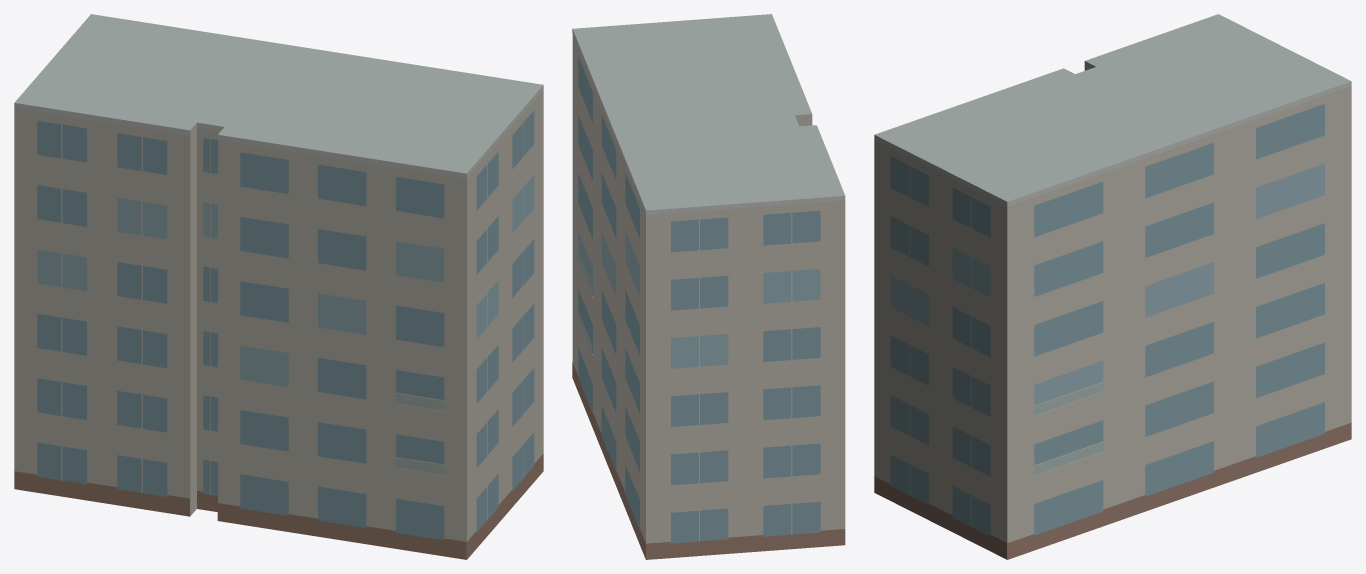
The model's file is survey-upis-32929403.glb.
3 renders of one model, left to right at view 1: azimuth 30°, elevation 25°; view 2: azimuth 150°, elevation 25°; view 3: azimuth 270°, elevation 25°, orthographic. The views are drawn at different scales.
Visible parts, largest first — view 1: survey-upis-32929403.tmp; view 2: survey-upis-32929403.tmp; view 3: survey-upis-32929403.tmp.
Boxes of the visible parts, x1,y1,x2,y2 form: survey-upis-32929403.tmp: (14,14,543,559); survey-upis-32929403.tmp: (572,14,845,559); survey-upis-32929403.tmp: (874,14,1351,559).
Bounding box in the file's own units: 20.61 × 18.3 × 22.12.
